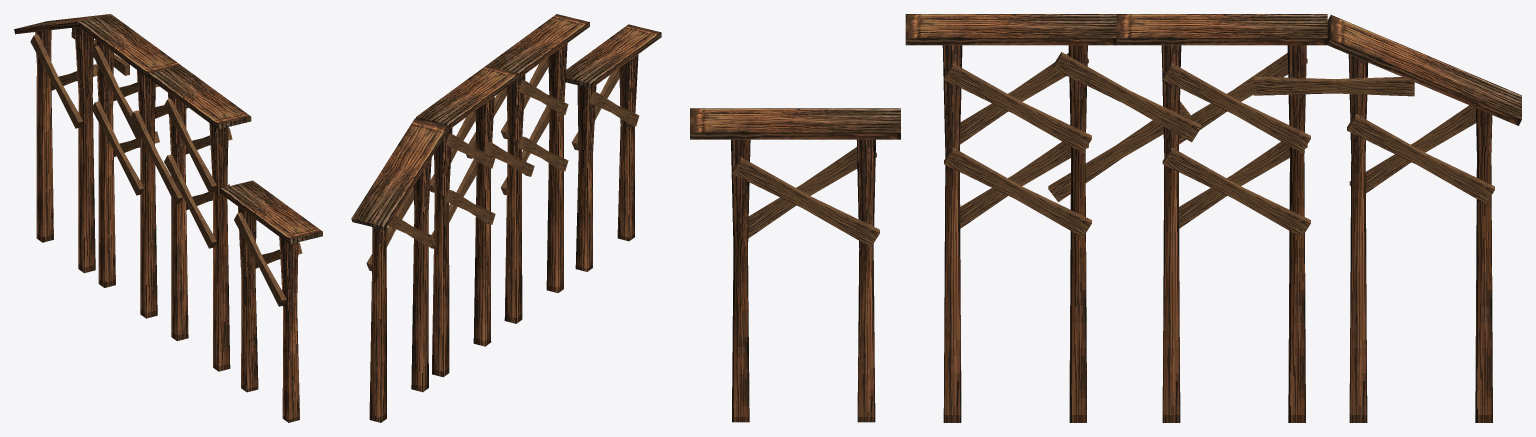
The model's file is LAKETOWN_WAREHOUSE2_PS_WH2_PLATFORM2_273__GX.obj.
3 views of the same model, side by side, from view 1: azimuth 30°, elevation 25°; view 2: azimuth 150°, elevation 25°; view 3: azimuth 270°, elevation 25° (orthographic). The views are drawn at different scales.
Visible parts, largest first — view 1: atform2_273__GX; view 2: atform2_273__GX; view 3: atform2_273__GX.
Part boxes in pixels (<box>): atform2_273__GX: <box>14,14,322,422</box>; atform2_273__GX: <box>351,14,661,422</box>; atform2_273__GX: <box>690,14,1521,422</box>.
Size of the model in its own units: 110 by 829 by 1597.
